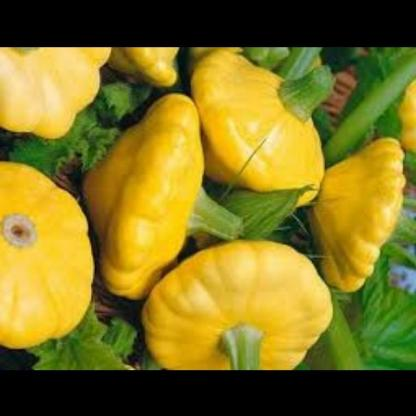squash-patisson: (82, 89, 216, 309), (136, 242, 339, 370), (184, 48, 333, 207), (1, 154, 99, 351), (315, 146, 416, 303), (0, 48, 122, 139), (113, 47, 200, 98)
